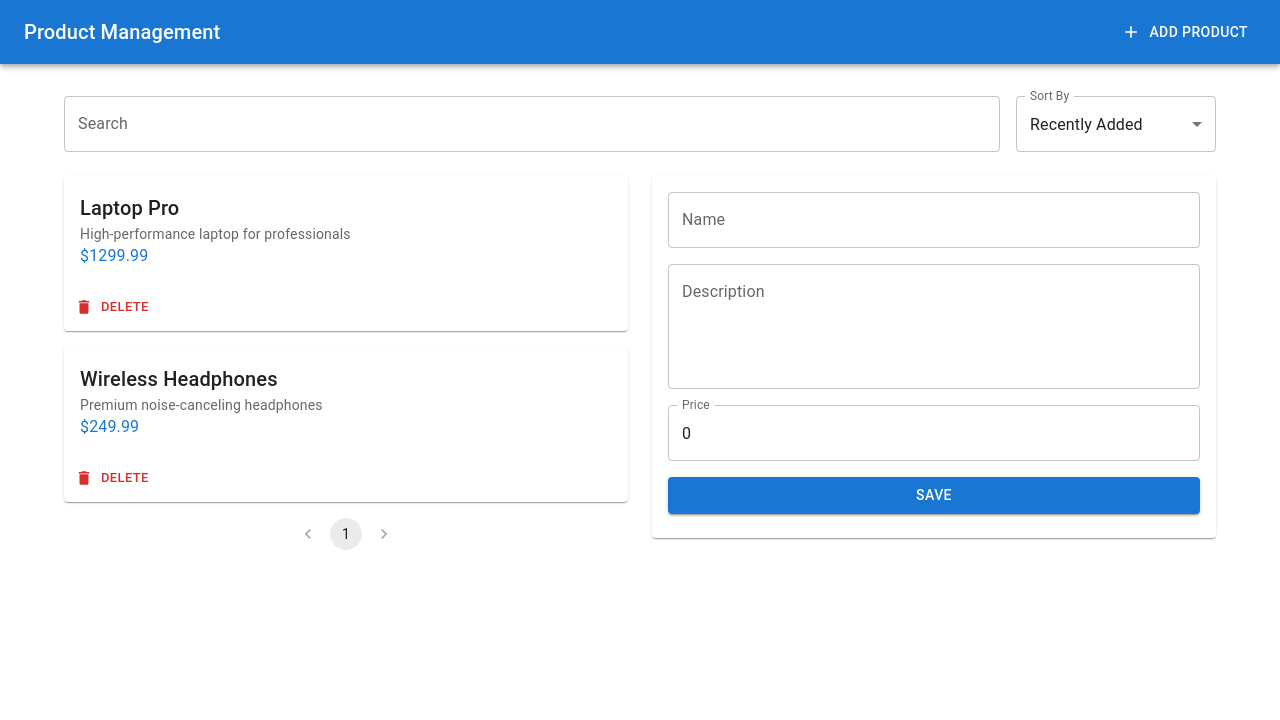
Product Management App › can delete a product
This screenshot has width=1280, height=720.
Click the button "Delete" below "1299.99" at (113, 308), box [72,292,154,323]
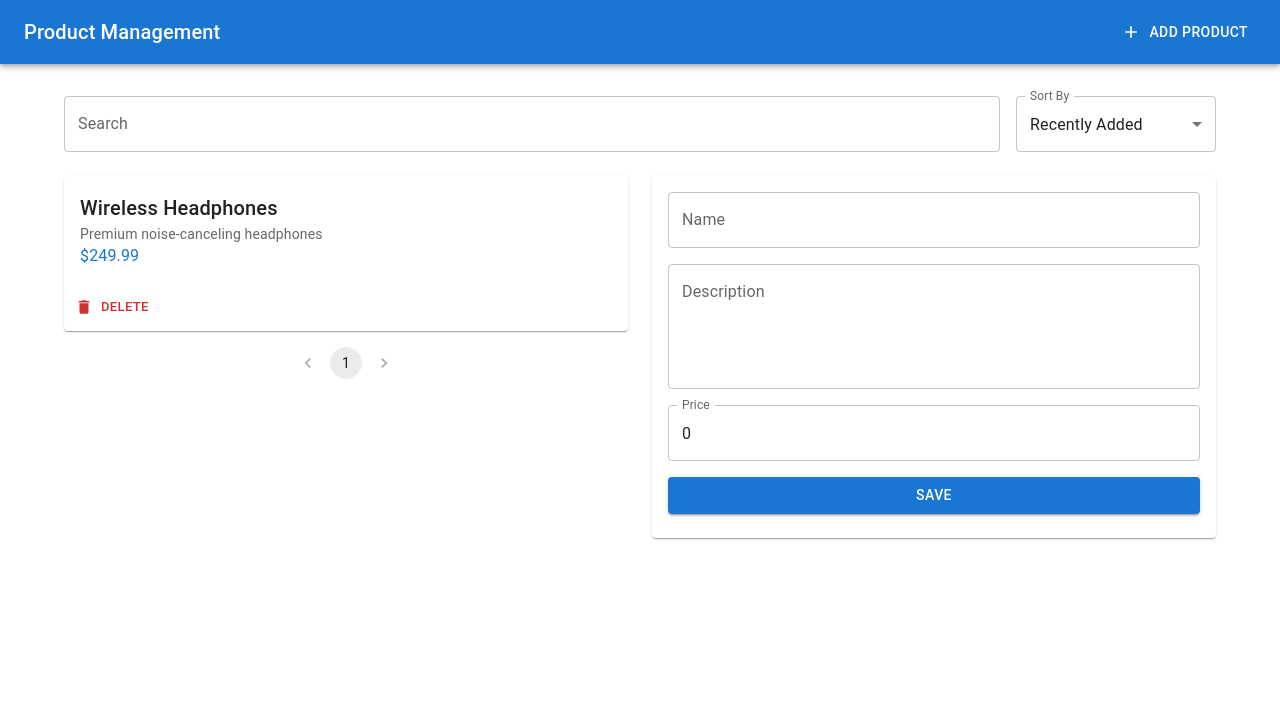
Check: the text "Laptop Pro" is gone
